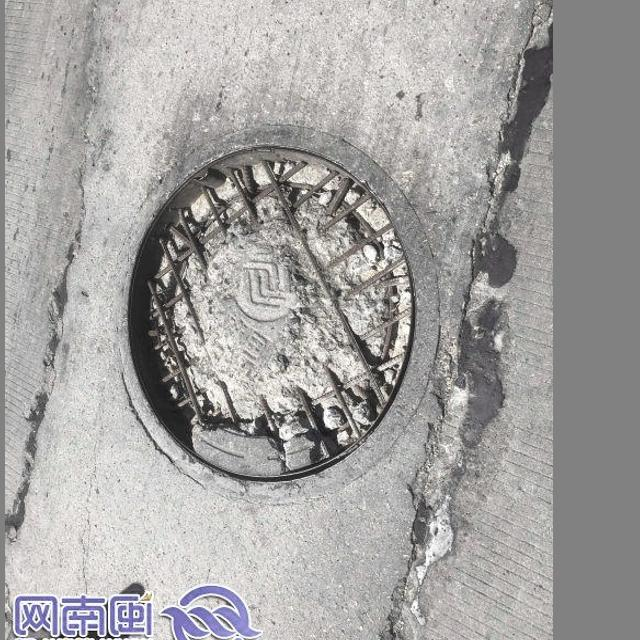broke: (100, 128, 458, 495)
